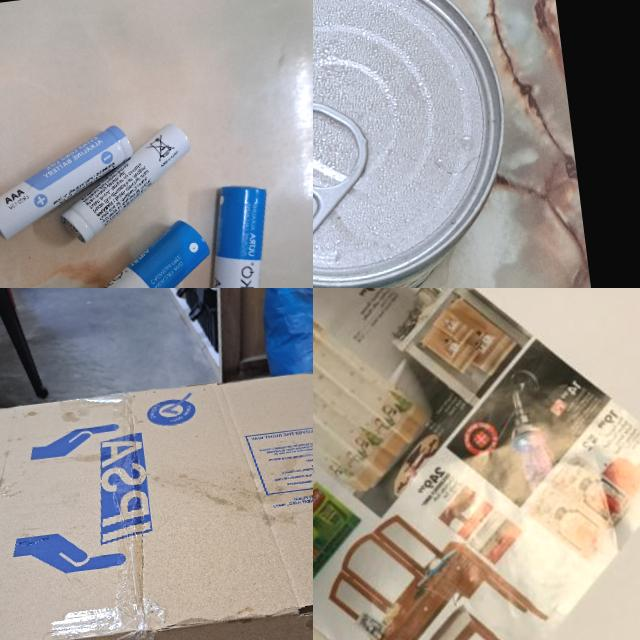aba de lata: (313, 94, 379, 255)
bateria: (48, 118, 200, 246), (0, 122, 142, 243), (42, 213, 221, 288), (188, 180, 285, 288)
lata: (313, 0, 526, 288)
papel: (313, 288, 640, 640)
papelão: (0, 347, 313, 640)
sacola plástica: (255, 288, 313, 403)
